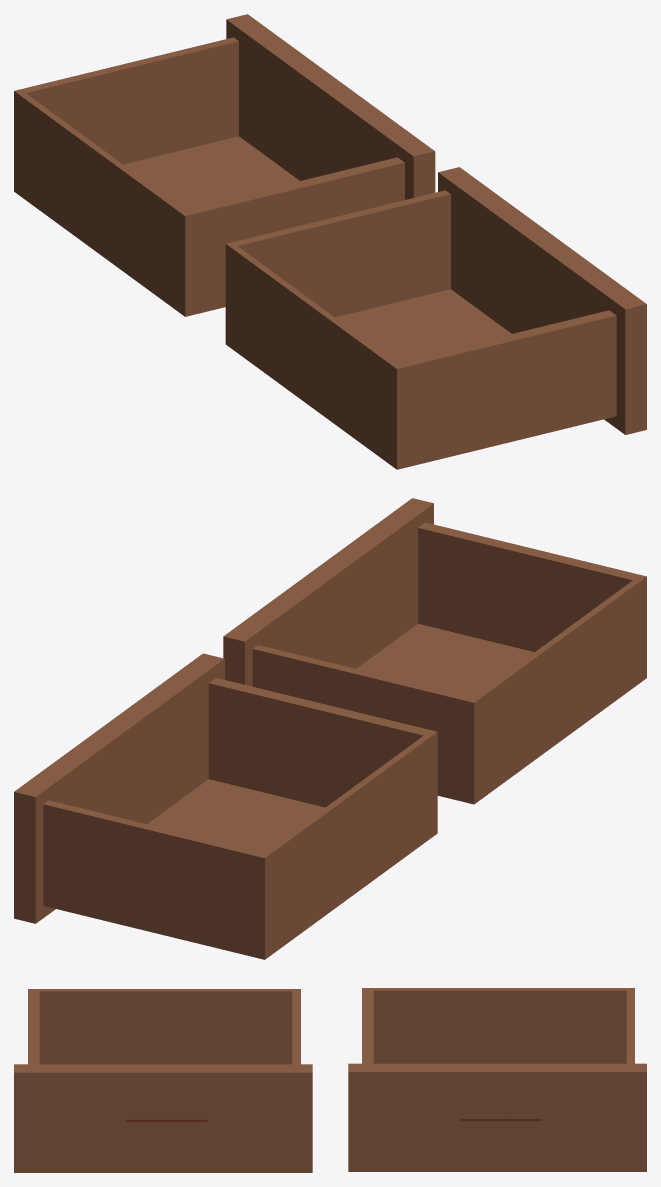
File: cajones.obj
3 views of the same model, one above another, from view 1: azimuth 30°, elevation 25°; view 2: azimuth 150°, elevation 25°; view 3: azimuth 270°, elevation 25° (orthographic). The views are drawn at different scales.
Visible parts, largest first — view 1: group1_pasted__pCube4; view 2: group1_pasted__pCube4; view 3: group1_pasted__pCube4.
Part boxes in pixels (x1,y1,x2,y2): group1_pasted__pCube4: [14, 14, 646, 469]; group1_pasted__pCube4: [14, 498, 646, 959]; group1_pasted__pCube4: [14, 988, 646, 1172].
Size of the model in its own units: 7.74 by 3.82 by 21.86.
4 materials, 4 textured.
